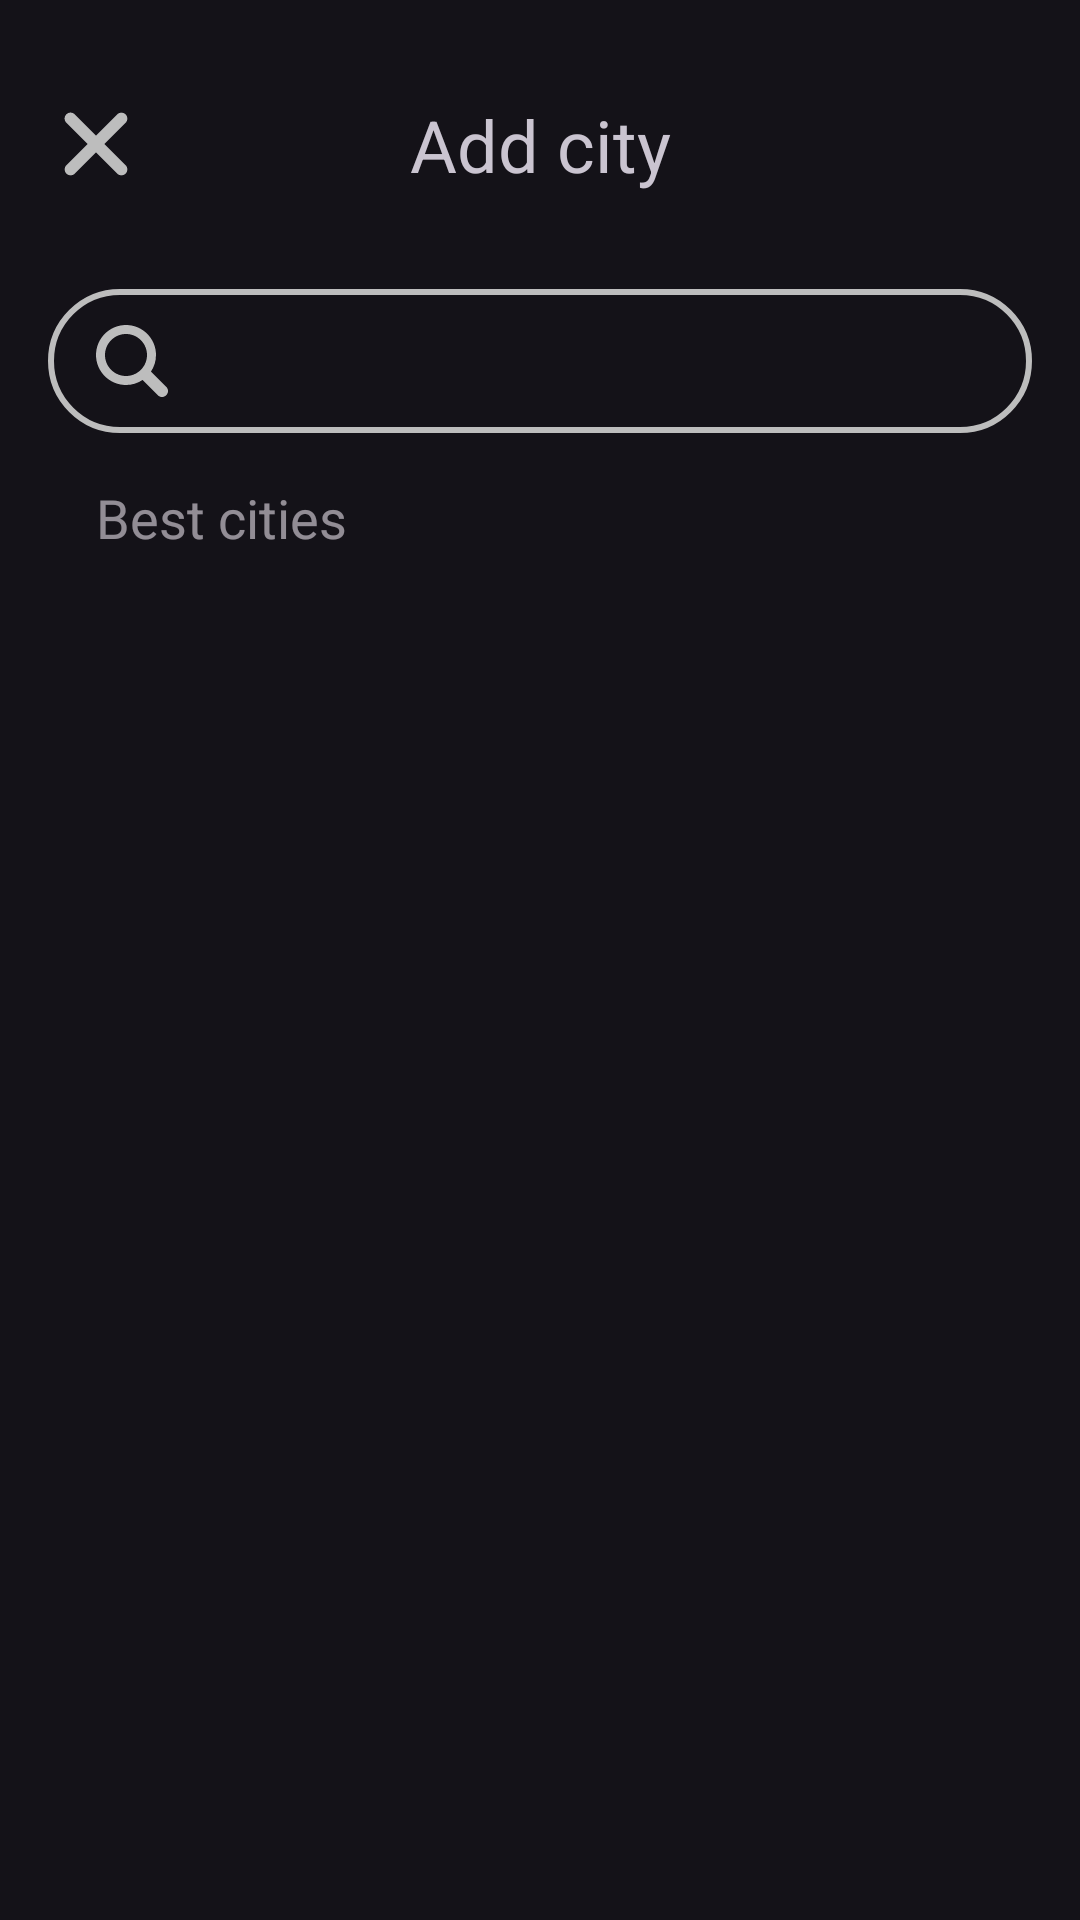

Icons on this 1080x1920 Android screen, each with its box as (x1, y1, x2, y2):
close: (64, 112, 128, 176)
